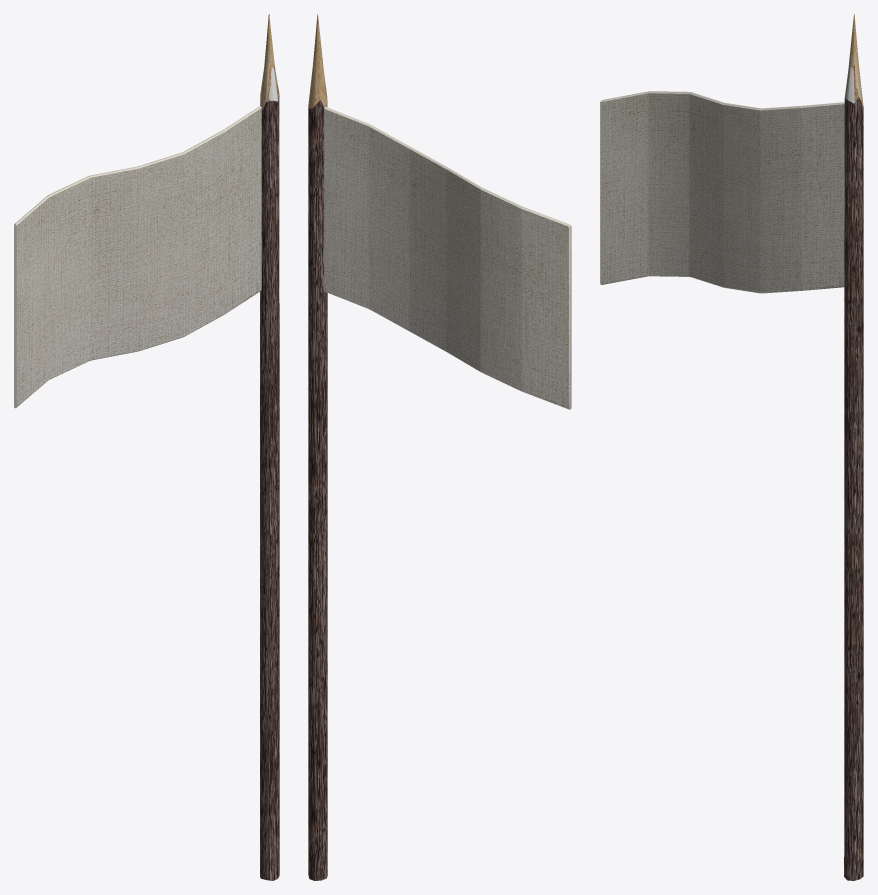
File: flag_pole_white.FBX
3 renders of one model, left to right at view 1: azimuth 30°, elevation 25°; view 2: azimuth 150°, elevation 25°; view 3: azimuth 330°, elevation 25°, orthographic.
Visible parts, largest first — view 1: Box001, Cylinder004; view 2: Box001, Cylinder004; view 3: Box001, Cylinder004.
Boxes of the visible parts, box(x1,y1,x2,y2) form: Box001: box(14, 106, 261, 408); Cylinder004: box(260, 14, 279, 880); Box001: box(324, 107, 571, 409); Cylinder004: box(308, 14, 327, 880); Box001: box(600, 91, 844, 293); Cylinder004: box(844, 14, 863, 880).
Bounding box in the file's own units: 7.44 × 0.6974 × 23.38.
